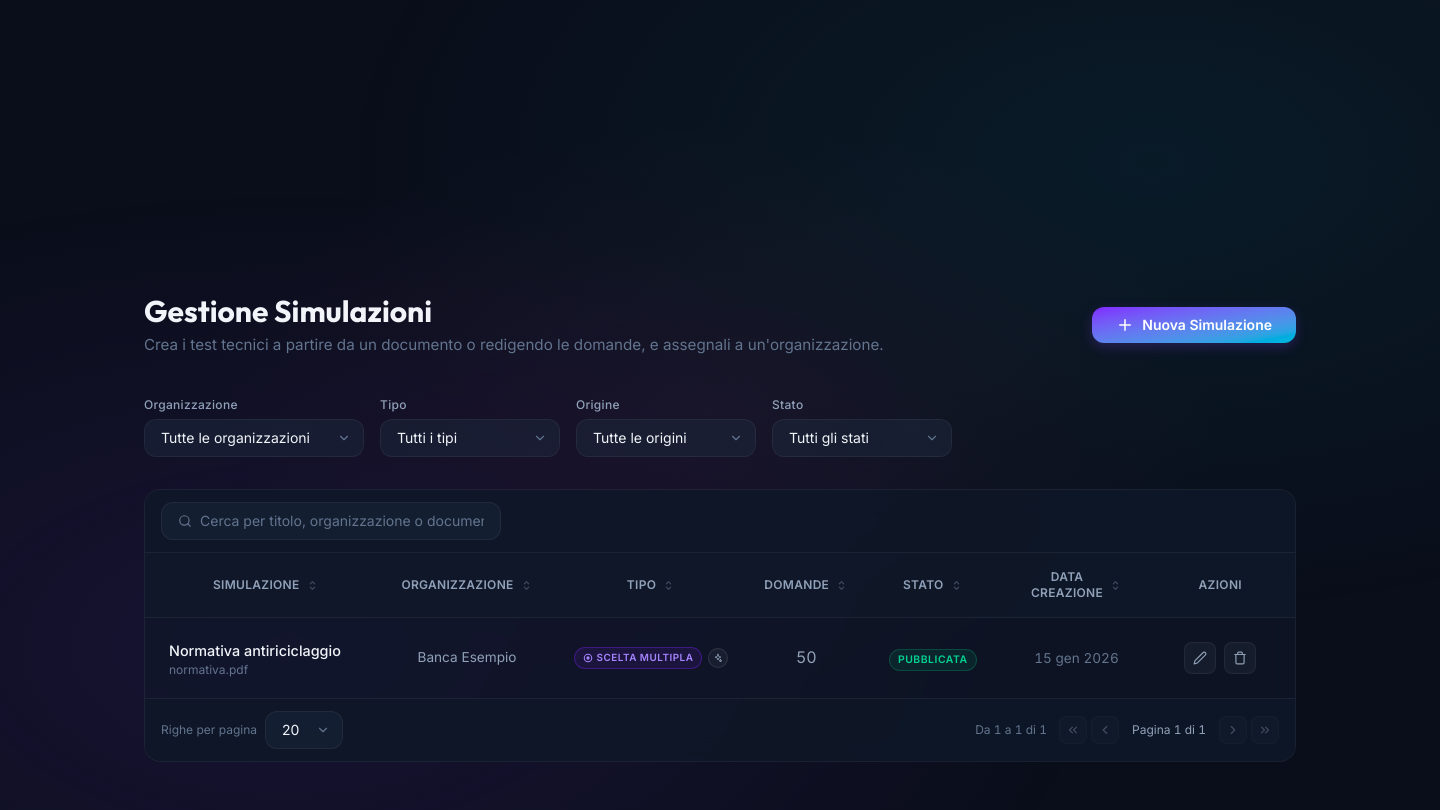
elenco › distingue una tabella vuota da una ricerca senza esiti
(page scrolled)
Step 1. Type "nessuna" into the field with placeholder "Cerca per titolo, organizzazione o documento..." → (342, 521), box [200,503,484,539]
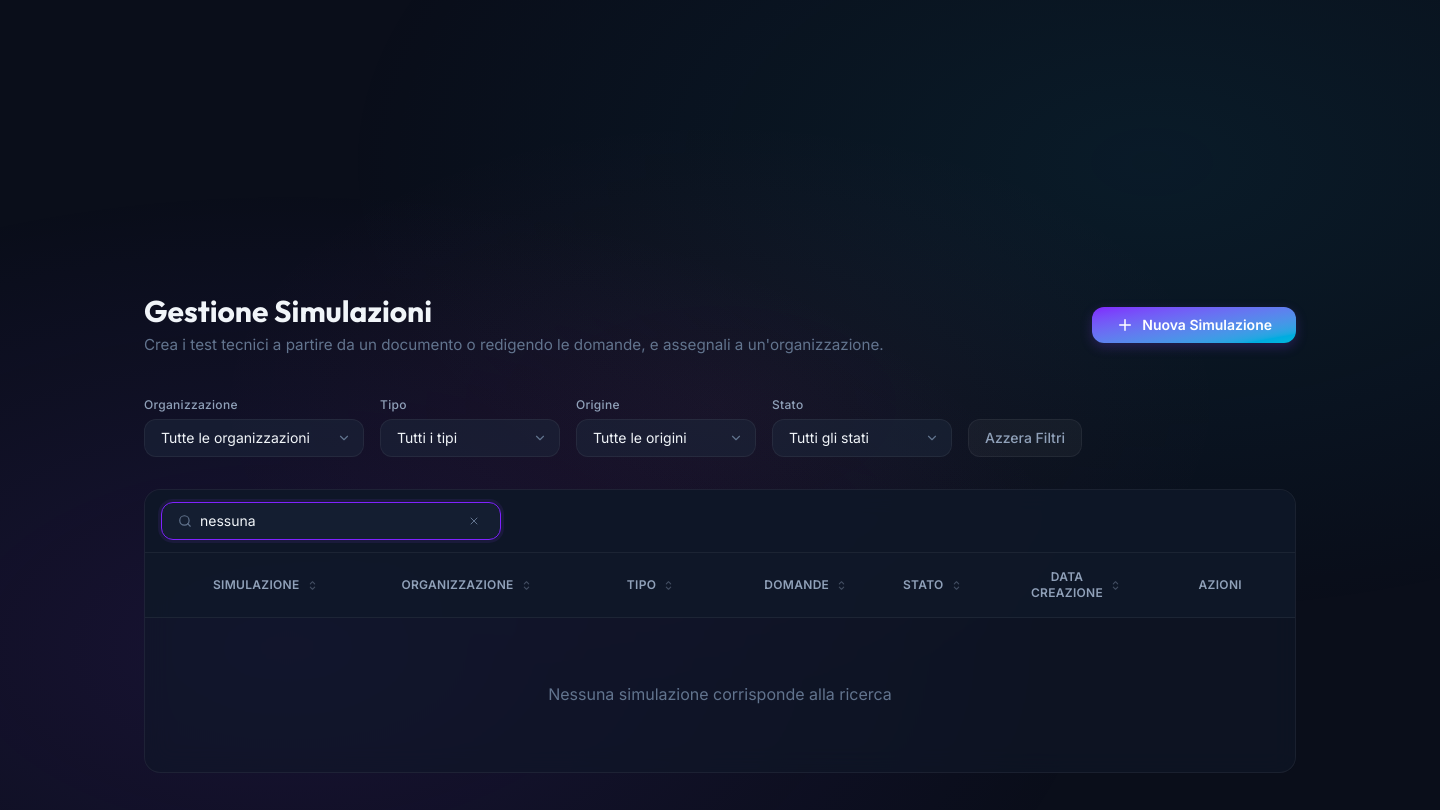
Check: the text "Nessuna simulazione corrisponde alla ricerca" is shown, box [145,618,1295,772]
